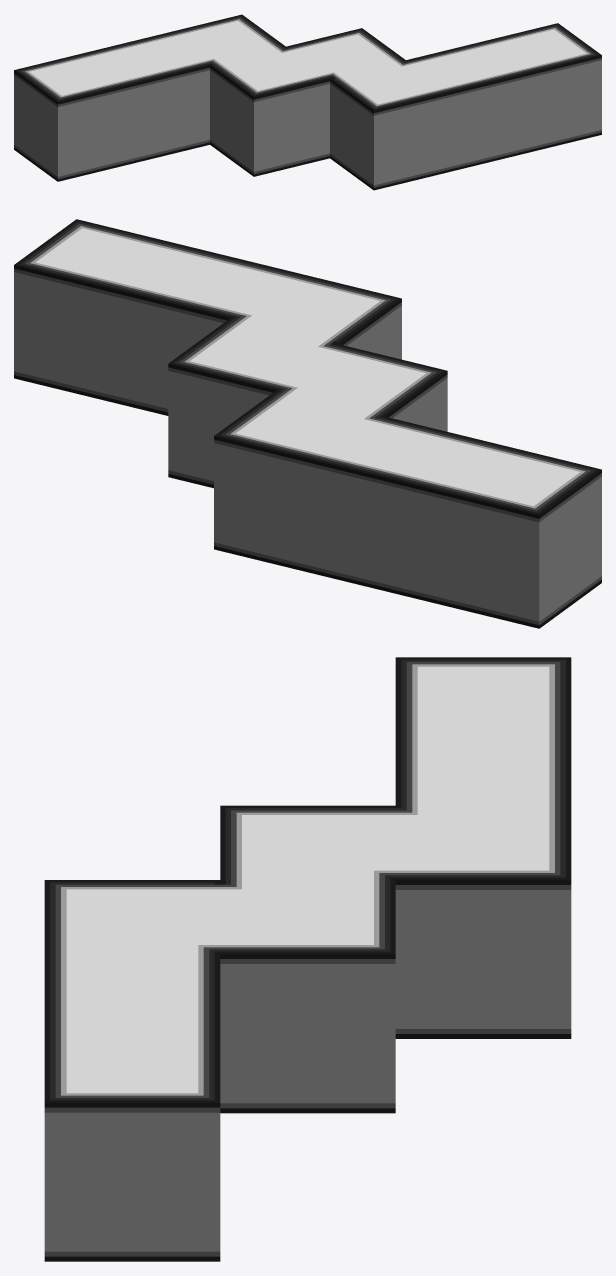
File: Separador 1.obj
3 views of the same model, one above another, from view 1: azimuth 30°, elevation 25°; view 2: azimuth 150°, elevation 25°; view 3: azimuth 270°, elevation 25° (orthographic). The views are drawn at different scales.
Size of the model in its own units: 19.2 by 3.2 by 9.6.
Materials: 1 (1 with a texture image).
